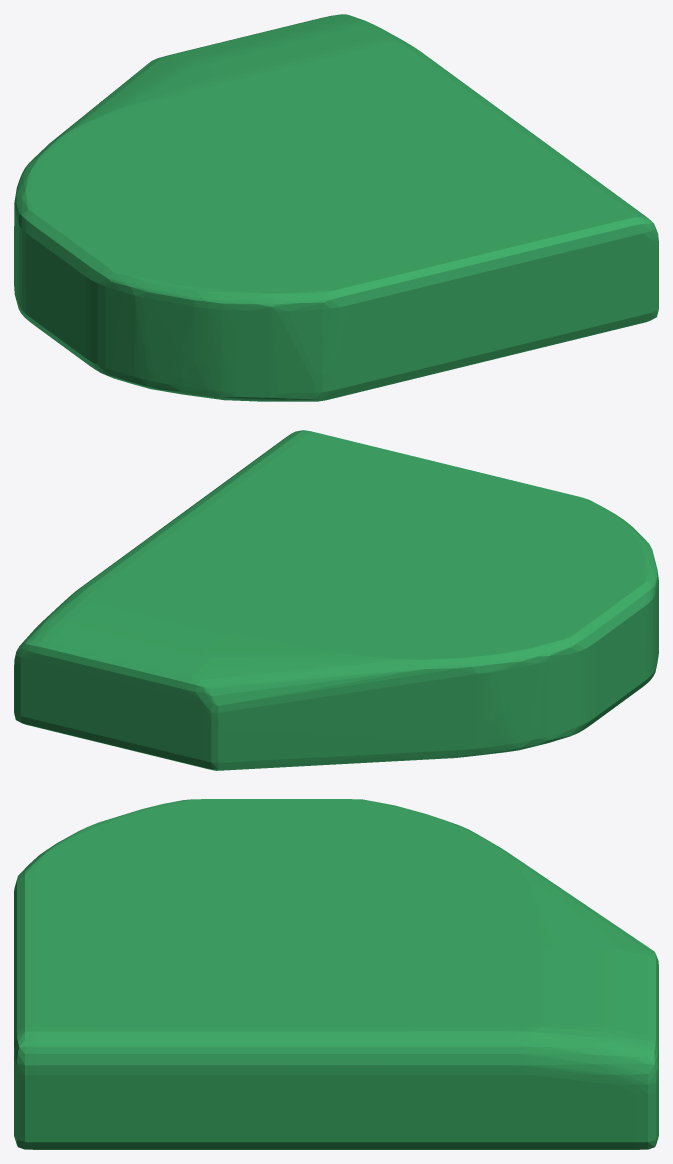
Rendered from right_knee_link_part_10.obj.
3 views of the same model, one above another, from view 1: azimuth 30°, elevation 25°; view 2: azimuth 150°, elevation 25°; view 3: azimuth 270°, elevation 25° (orthographic). The views are drawn at different scales.
Bounding box in the file's own units: 0.1076 × 0.023 × 0.1176.
